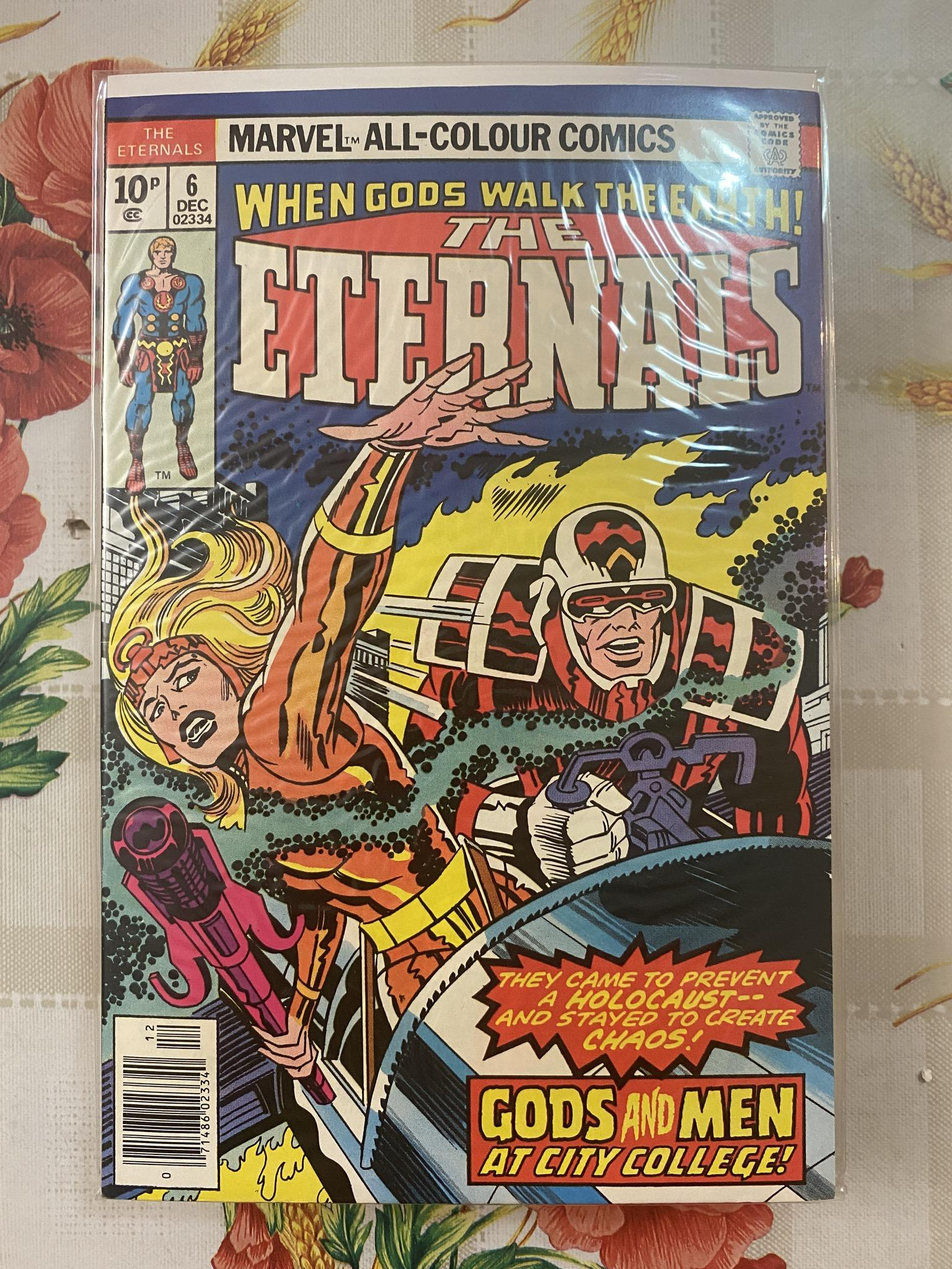comic: (98, 66, 833, 1205)
